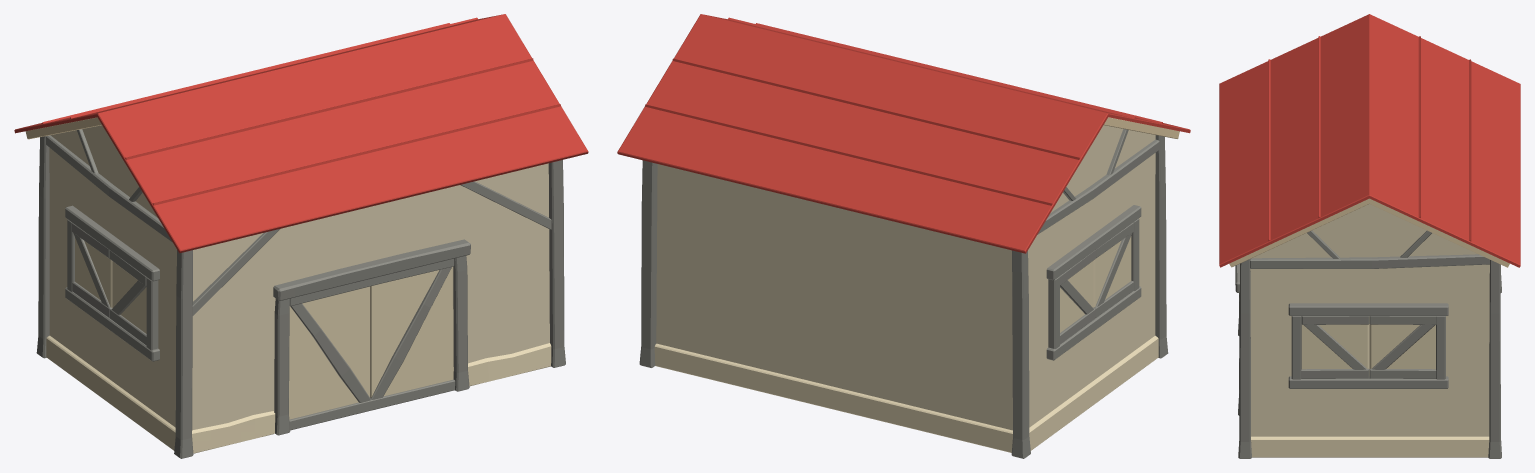
The model's file is farmbuilding_f.gltf.
3 views of the same model, side by side, from view 1: azimuth 30°, elevation 25°; view 2: azimuth 150°, elevation 25°; view 3: azimuth 270°, elevation 25° (orthographic). The views are drawn at different scales.
Parts seen in each view (by area): view 1: Line079, Box832, Box833, farmbuilding_f001, Box843, Line078; view 2: Box832, Line079, Box833, Box843, farmbuilding_f001, Line078; view 3: Line079, Box832, Box833, Box843, farmbuilding_f001, Line078.
Part boxes in pixels (x1=…): Line079: x1=14, y1=14, x2=588, y2=253; Box832: x1=49, y1=125, x2=549, y2=430; Box833: x1=36, y1=129, x2=565, y2=458; farmbuilding_f001: x1=75, y1=238, x2=453, y2=419; Box843: x1=46, y1=335, x2=551, y2=453; Line078: x1=25, y1=117, x2=101, y2=139; Box832: x1=656, y1=125, x2=1155, y2=430; Line079: x1=617, y1=14, x2=1190, y2=253; Box833: x1=639, y1=129, x2=1168, y2=458; Box843: x1=654, y1=335, x2=1158, y2=452; farmbuilding_f001: x1=1060, y1=236, x2=1131, y2=332; Line078: x1=1104, y1=117, x2=1179, y2=138; Line079: x1=1219, y1=14, x2=1520, y2=267; Box832: x1=1250, y1=204, x2=1489, y2=436; Box833: x1=1235, y1=230, x2=1501, y2=458; Box843: x1=1251, y1=436, x2=1489, y2=457; farmbuilding_f001: x1=1301, y1=324, x2=1435, y2=369; Line078: x1=1229, y1=198, x2=1509, y2=267.
Size of the model in its own units: 6.25 by 4.34 by 4.4.
1 material, 1 textured.
